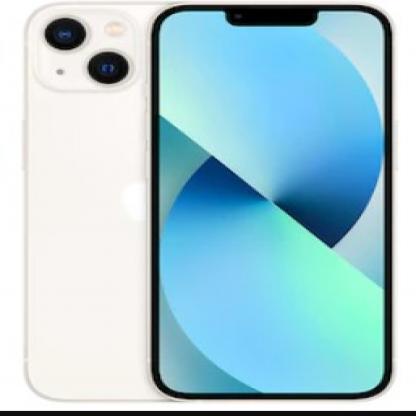SMARTPHONE: (18, 1, 400, 406)
